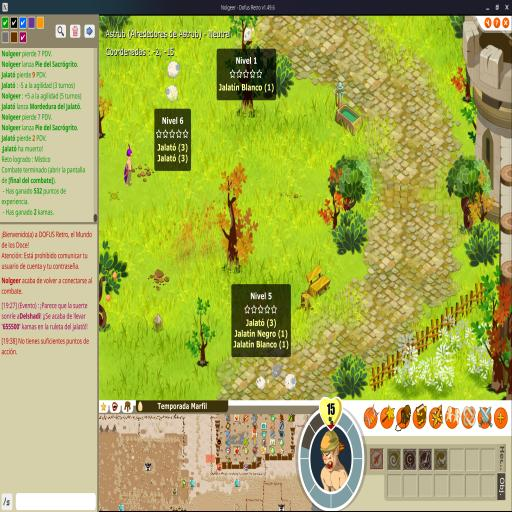Enemigos: (165, 84, 179, 104), (167, 60, 180, 80), (284, 372, 297, 392), (256, 375, 266, 390), (272, 363, 281, 379), (243, 28, 252, 42)
Personaje: (124, 143, 135, 187)
